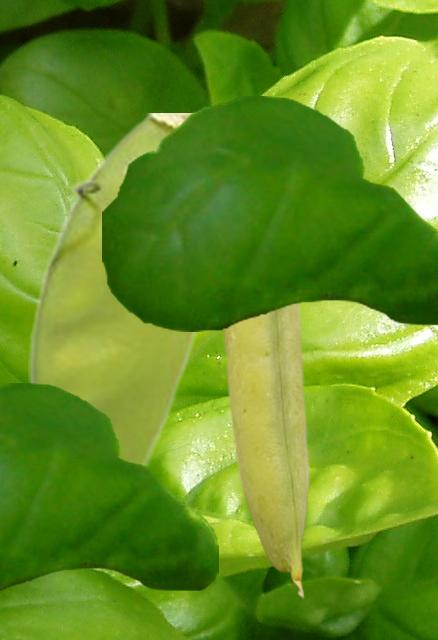pea: (28, 113, 203, 470), (221, 304, 310, 597)
